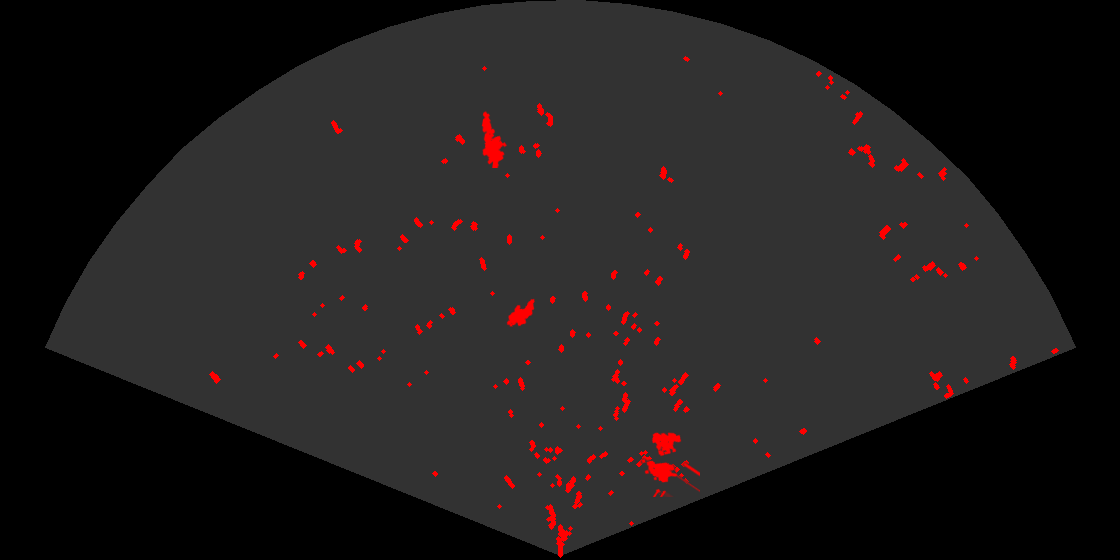AUV: (505, 297, 536, 328)
cage: (640, 431, 700, 497)
frogman: (480, 109, 509, 168)
